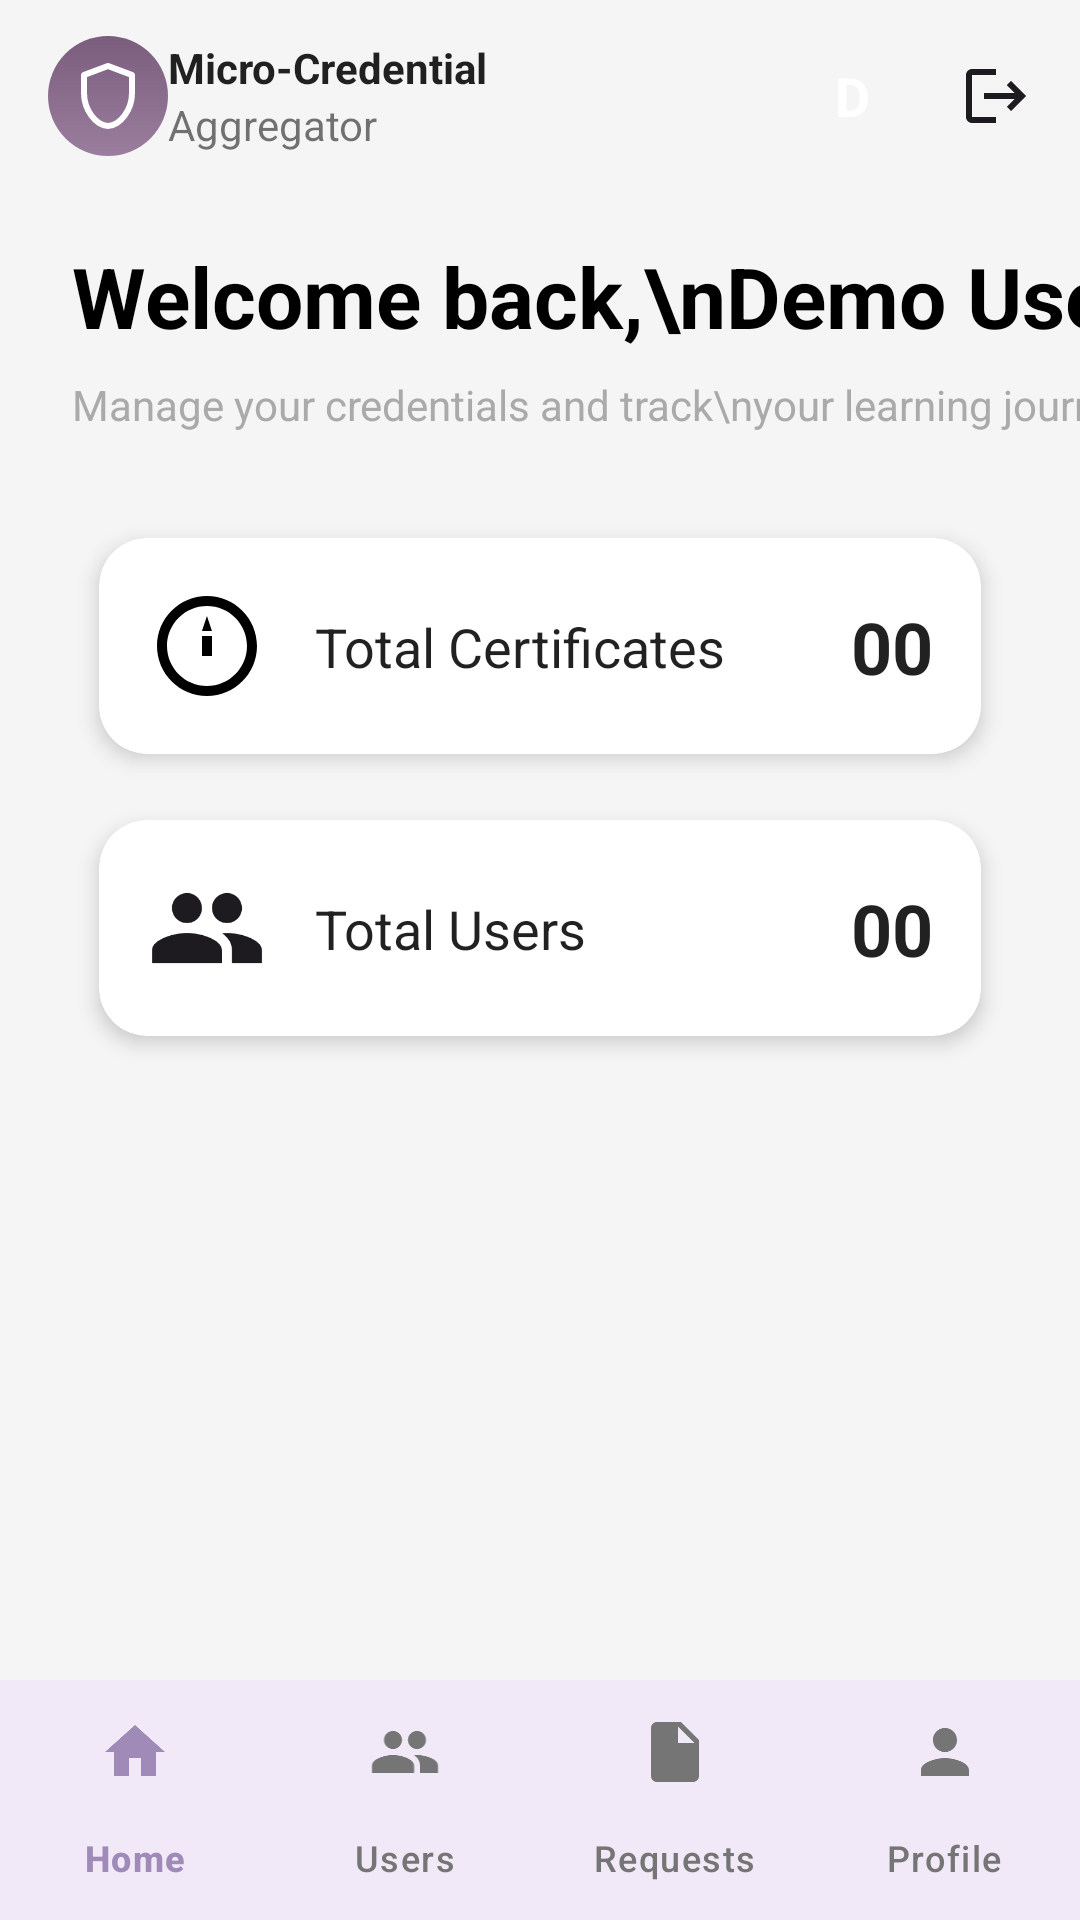

Named icons in this screenshot (1080 x 1920) and their bounding boxes, (x1, y1, x2, y2):
shield: (48, 36, 168, 156)
